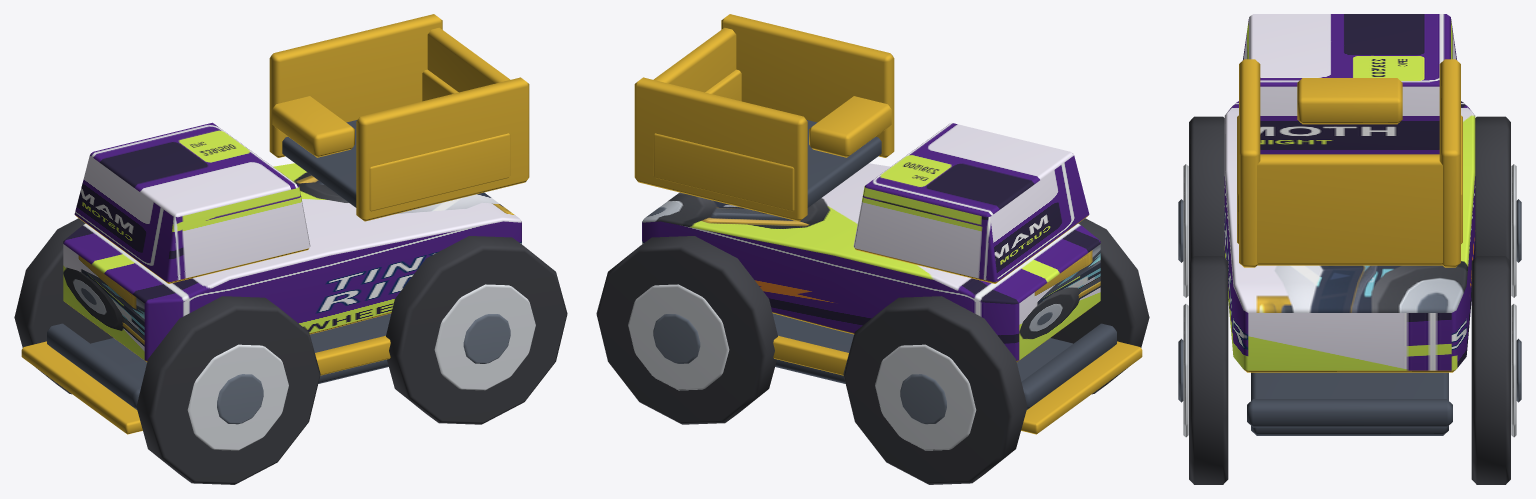
The picture shows the model from 3 angles, left to right: view 1: azimuth 30°, elevation 25°; view 2: azimuth 150°, elevation 25°; view 3: azimuth 270°, elevation 25°; orthographic projection. The views are drawn at different scales.
Parts seen in each view (by area): view 1: BW-04_connected_shell, BW-04_cabin, Tire, Tire.002, raised tipper wall, raised tipper wall.001, cargo side, Rim, Rim.002, Tire.001, custom chin, custom equipment (+8 smaller); view 2: BW-04_connected_shell, BW-04_cabin, Tire.001, Tire.003, raised tipper wall.001, raised tipper wall, cargo side.001, Rim.001, Rim.003, Tire, custom chin, custom equipment (+8 smaller); view 3: BW-04_connected_shell, BW-04_cabin, raised tail gate, Tire.002, Tire.003, underbody, rear bumper, Tire, Tire.001, custom equipment, raised tipper wall, raised tipper wall.001 (+6 smaller).
Part boxes in pixels (bbox=[...]): BW-04_connected_shell: bbox=[63, 163, 521, 361]; BW-04_cabin: bbox=[74, 122, 310, 283]; Tire: bbox=[136, 296, 320, 484]; Tire.002: bbox=[386, 236, 567, 424]; raised tipper wall: bbox=[356, 77, 529, 221]; raised tipper wall.001: bbox=[269, 14, 442, 157]; cargo side: bbox=[369, 133, 510, 211]; Rim: bbox=[187, 344, 288, 450]; Rim.002: bbox=[434, 284, 535, 390]; Tire.001: bbox=[14, 218, 113, 394]; custom chin: bbox=[21, 341, 142, 434]; custom equipment: bbox=[272, 96, 354, 157]; BW-04_connected_shell: bbox=[642, 163, 1100, 361]; BW-04_cabin: bbox=[853, 122, 1089, 283]; Tire.001: bbox=[843, 296, 1027, 484]; Tire.003: bbox=[596, 236, 777, 424]; raised tipper wall.001: bbox=[634, 77, 807, 221]; raised tipper wall: bbox=[721, 14, 894, 157]; cargo side.001: bbox=[653, 133, 794, 211]; Rim.001: bbox=[875, 344, 976, 450]; Rim.003: bbox=[628, 284, 729, 390]; Tire: bbox=[1050, 218, 1149, 394]; custom chin: bbox=[1021, 341, 1142, 434]; custom equipment: bbox=[809, 96, 891, 157]; BW-04_connected_shell: bbox=[1224, 101, 1475, 372]; BW-04_cabin: bbox=[1242, 14, 1457, 154]; raised tail gate: bbox=[1257, 154, 1442, 265]; Tire.002: bbox=[1189, 256, 1228, 484]; Tire.003: bbox=[1471, 256, 1510, 484]; underbody: bbox=[1251, 372, 1448, 435]; rear bumper: bbox=[1247, 399, 1452, 427]; Tire: bbox=[1189, 116, 1224, 260]; Tire.001: bbox=[1475, 116, 1510, 260]; custom equipment: bbox=[1297, 78, 1402, 124]; raised tipper wall: bbox=[1239, 59, 1260, 267]; raised tipper wall.001: bbox=[1439, 59, 1460, 267].
Size of the model in its own units: 378 by 264 by 227.
